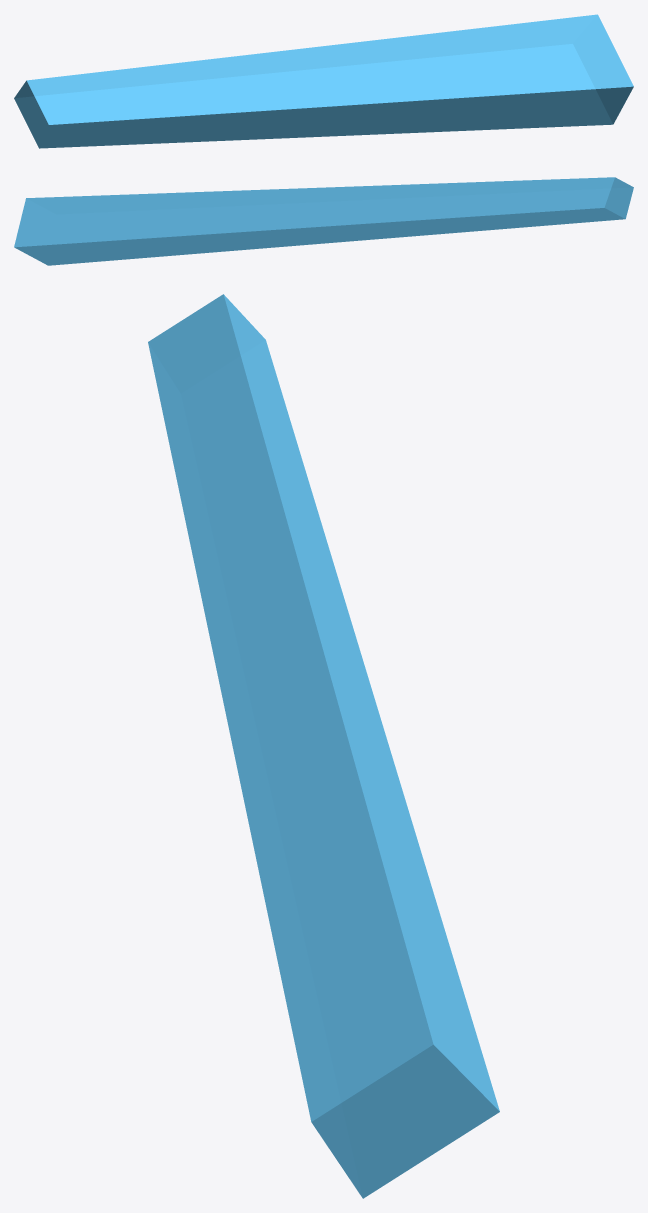
File: Event_421556567_HErechit_29.fbx
The picture shows the model from 3 angles, top to bottom: view 1: azimuth 30°, elevation 25°; view 2: azimuth 150°, elevation 25°; view 3: azimuth 270°, elevation 25°; orthographic projection. The views are drawn at different scales.
Parts seen in each view (by area): view 1: Model; view 2: Model; view 3: Model.
Boxes of the visible parts, box(x1,y1,x2,y2) form: Model: box(14, 14, 633, 148); Model: box(14, 177, 633, 265); Model: box(148, 294, 499, 1198).
Bounding box in the file's own units: 6.28 × 2.16 × 1.78.
